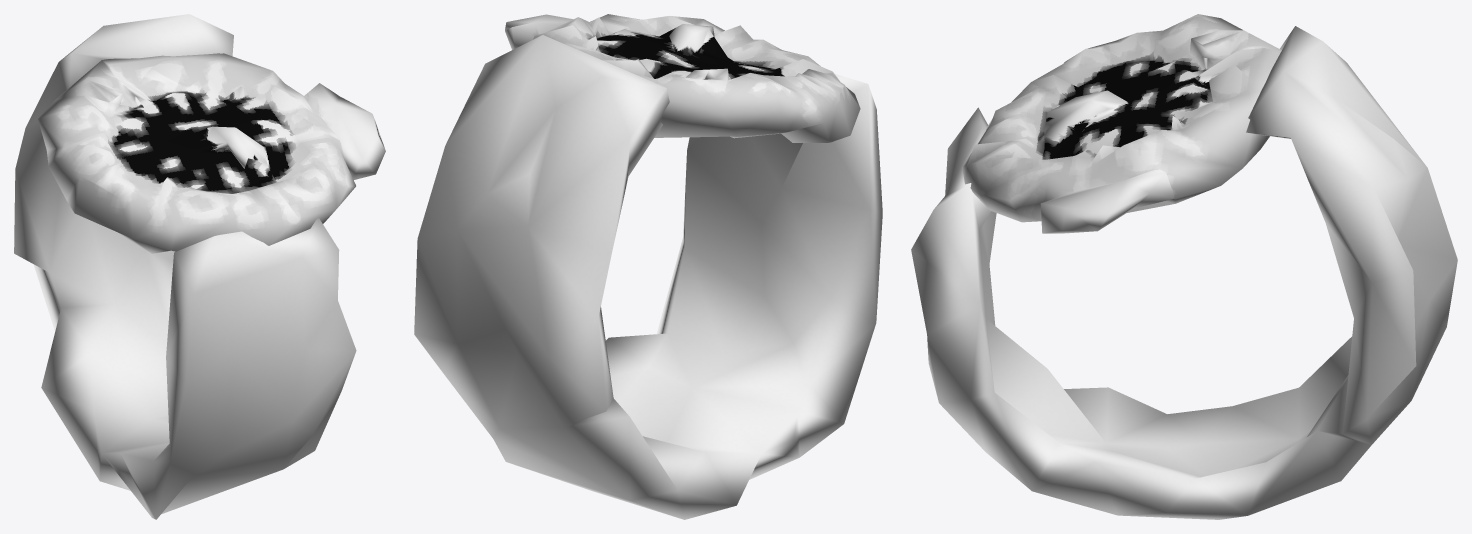
File: oyster silver.glb
The picture shows the model from 3 angles, left to right: view 1: azimuth 30°, elevation 25°; view 2: azimuth 150°, elevation 25°; view 3: azimuth 270°, elevation 25°; orthographic projection. The views are drawn at different scales.
Parts seen in each view (by area): view 1: watch_oyster_silver.001; view 2: watch_oyster_silver.001; view 3: watch_oyster_silver.001.
Boxes of the visible parts, bbox=[...] form: watch_oyster_silver.001: bbox=[14, 14, 385, 519]; watch_oyster_silver.001: bbox=[414, 14, 882, 519]; watch_oyster_silver.001: bbox=[911, 14, 1457, 519].
Bounding box in the file's own units: 0.0373 × 0.0491 × 0.0512.
Materials: 2 (2 with a texture image).
